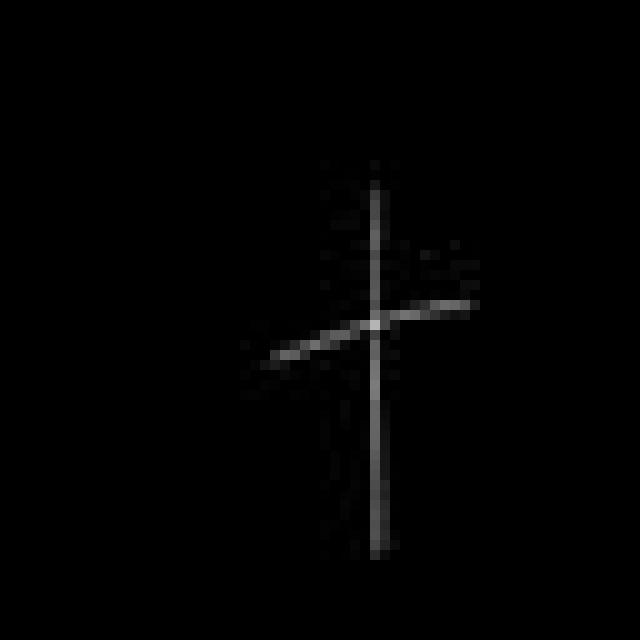10 -ten-: (267, 177, 481, 557)
